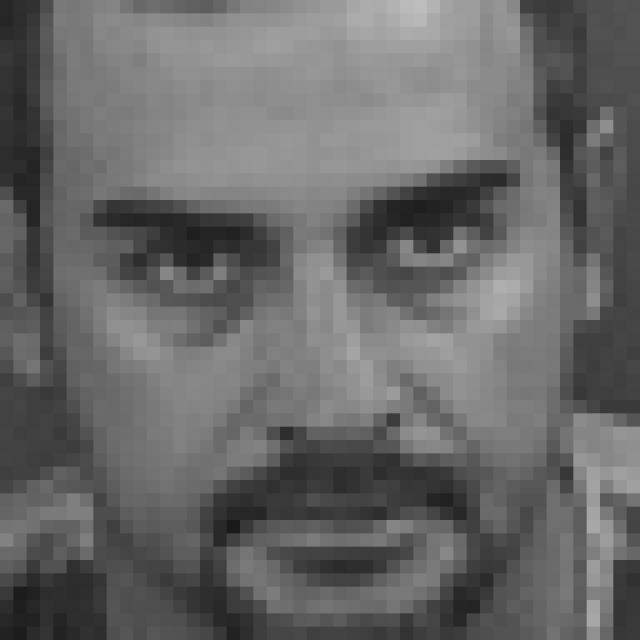neutral: (88, 148, 540, 582)
